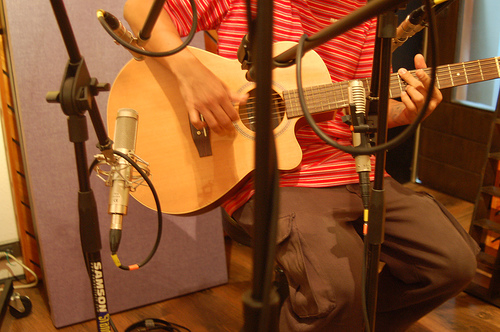guitar: (106, 36, 499, 217)
